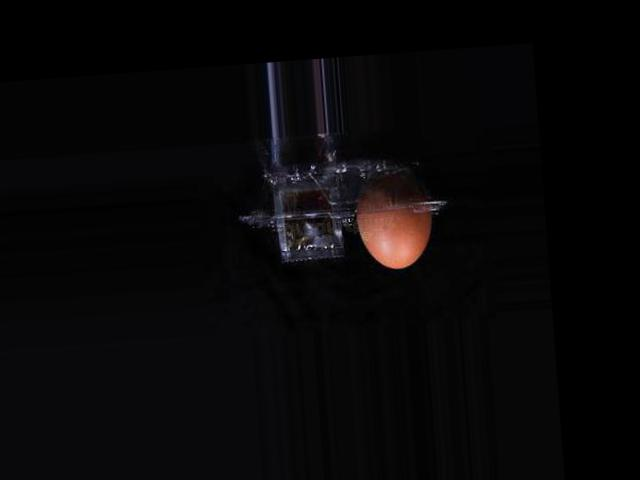egg: (355, 167, 437, 270)
